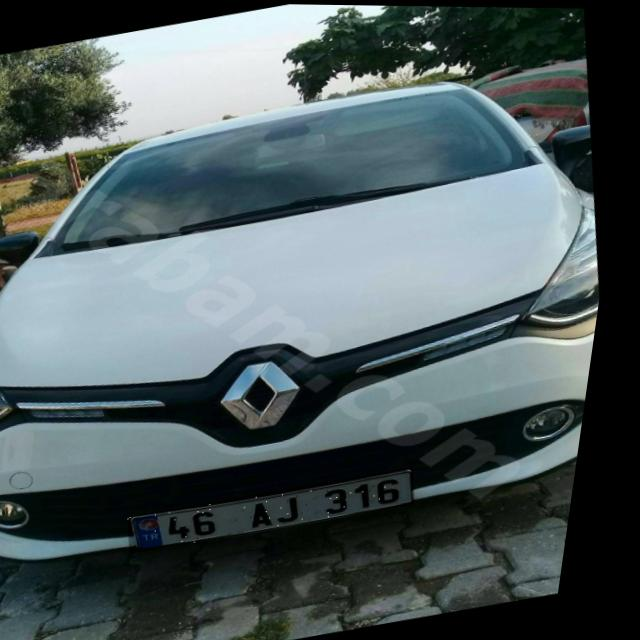license_plate: (138, 462, 434, 556)
